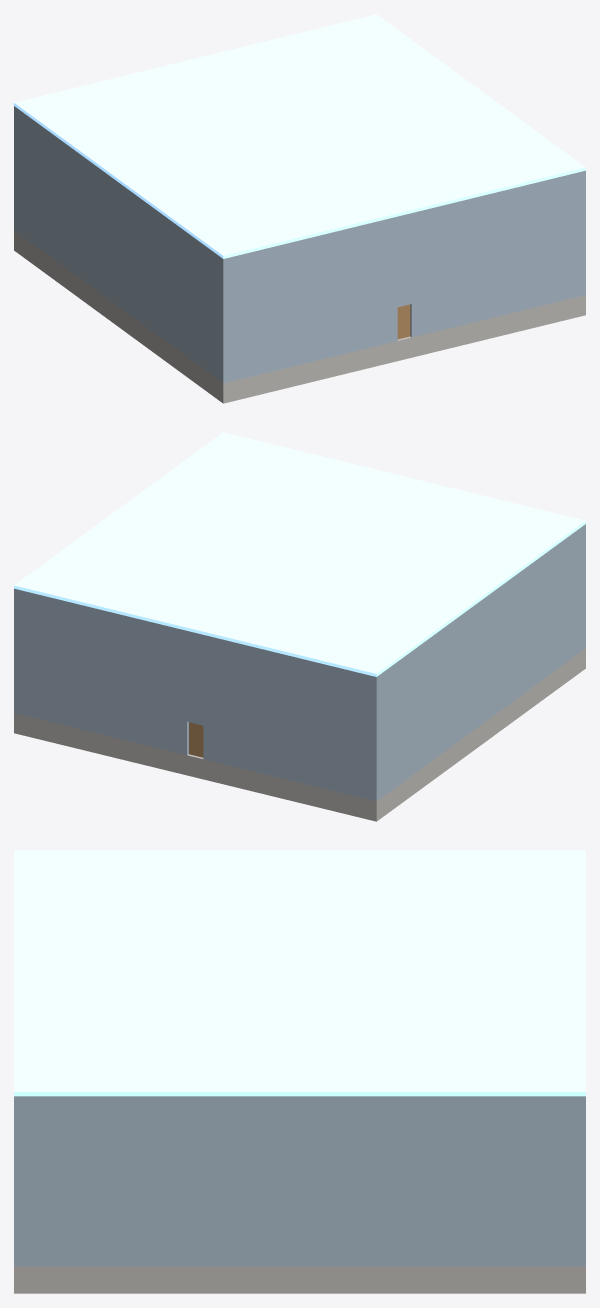
3 views of the same model, one above another, from view 1: azimuth 30°, elevation 25°; view 2: azimuth 150°, elevation 25°; view 3: azimuth 270°, elevation 25° (orthographic). The views are drawn at different scales.
Parts seen in each view (by area): view 1: Court_Ceiling, Court_Wall_W_1, Court_Wall_S_1, Court_Wall_S_3, Floor_S, Floor_W, Court_Wall_S_2, Floor_N; view 2: Court_Ceiling, Court_Wall_W_1, Court_Wall_N_1, Court_Wall_N_3, Floor_N, Floor_W, Court_Wall_N_2, Floor_S; view 3: Court_Ceiling, Court_Wall_E_1, Floor_E, Floor_N, Floor_S, Court_Wall_N_3, Court_Wall_S_3.
Boxes of the visible parts, x1=… form: Court_Ceiling: x1=14, y1=14, x2=585, y2=258; Court_Wall_W_1: x1=15, y1=107, x2=221, y2=381; Court_Wall_S_1: x1=221, y1=216, x2=397, y2=383; Court_Wall_S_3: x1=410, y1=170, x2=585, y2=337; Floor_S: x1=170, y1=295, x2=585, y2=403; Floor_W: x1=67, y1=269, x2=170, y2=364; Court_Wall_S_2: x1=397, y1=213, x2=411, y2=307; Floor_N: x1=14, y1=230, x2=67, y2=288; Court_Ceiling: x1=14, y1=432, x2=585, y2=676; Court_Wall_W_1: x1=378, y1=525, x2=584, y2=799; Court_Wall_N_1: x1=203, y1=635, x2=378, y2=801; Court_Wall_N_3: x1=14, y1=588, x2=188, y2=754; Floor_N: x1=14, y1=713, x2=429, y2=821; Floor_W: x1=429, y1=687, x2=532, y2=782; Court_Wall_N_2: x1=187, y1=631, x2=203, y2=725; Floor_S: x1=532, y1=648, x2=585, y2=706; Court_Ceiling: x1=14, y1=850, x2=585, y2=1096; Court_Wall_E_1: x1=18, y1=1096, x2=581, y2=1266; Floor_E: x1=159, y1=1266, x2=440, y2=1293; Floor_N: x1=440, y1=1266, x2=585, y2=1293; Floor_S: x1=14, y1=1266, x2=159, y2=1293; Court_Wall_N_3: x1=581, y1=1096, x2=585, y2=1266; Court_Wall_S_3: x1=14, y1=1096, x2=18, y2=1266.
Bounding box in the file's own units: 24.4 × 9.5 × 24.4.
